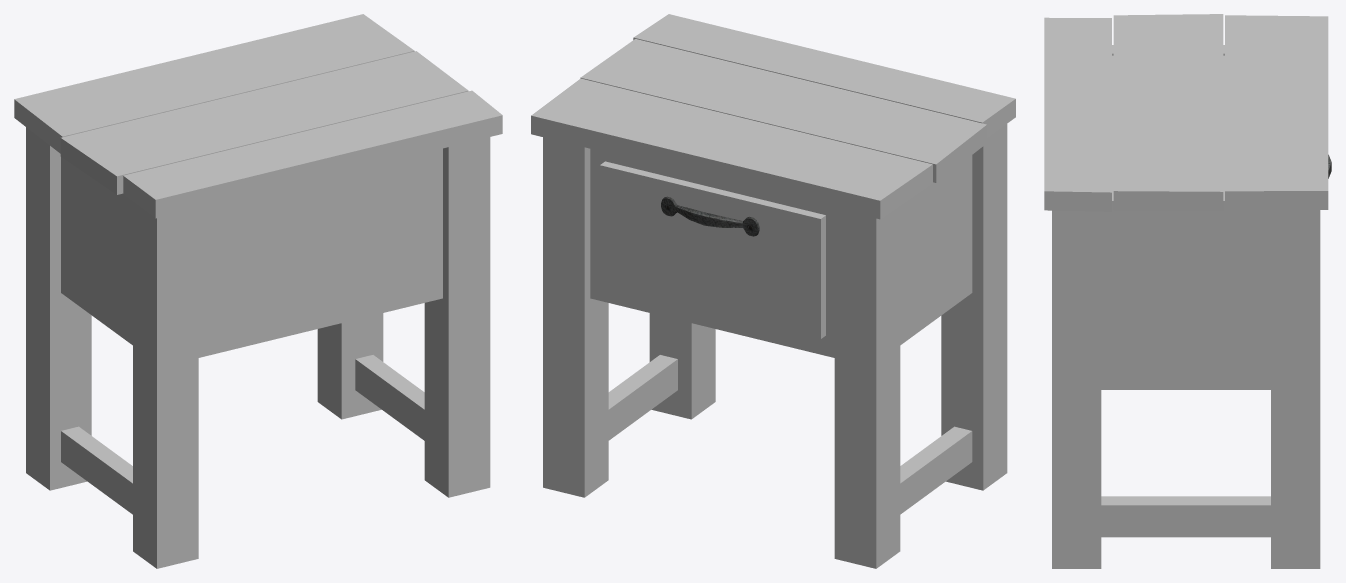
File: mw_wardrobe_small_03.FBX
3 renders of one model, left to right at view 1: azimuth 30°, elevation 25°; view 2: azimuth 150°, elevation 25°; view 3: azimuth 270°, elevation 25°, orthographic. The views are drawn at different scales.
Visible parts, largest first — view 1: mw_wardrobe_small_03; view 2: mw_wardrobe_small_03; view 3: mw_wardrobe_small_03.
Part boxes in pixels (x1,y1,x2,y2): mw_wardrobe_small_03: (14, 14, 502, 568); mw_wardrobe_small_03: (531, 14, 1015, 568); mw_wardrobe_small_03: (1044, 14, 1331, 568).
Size of the model in its own units: 102 by 102 by 69.43.
